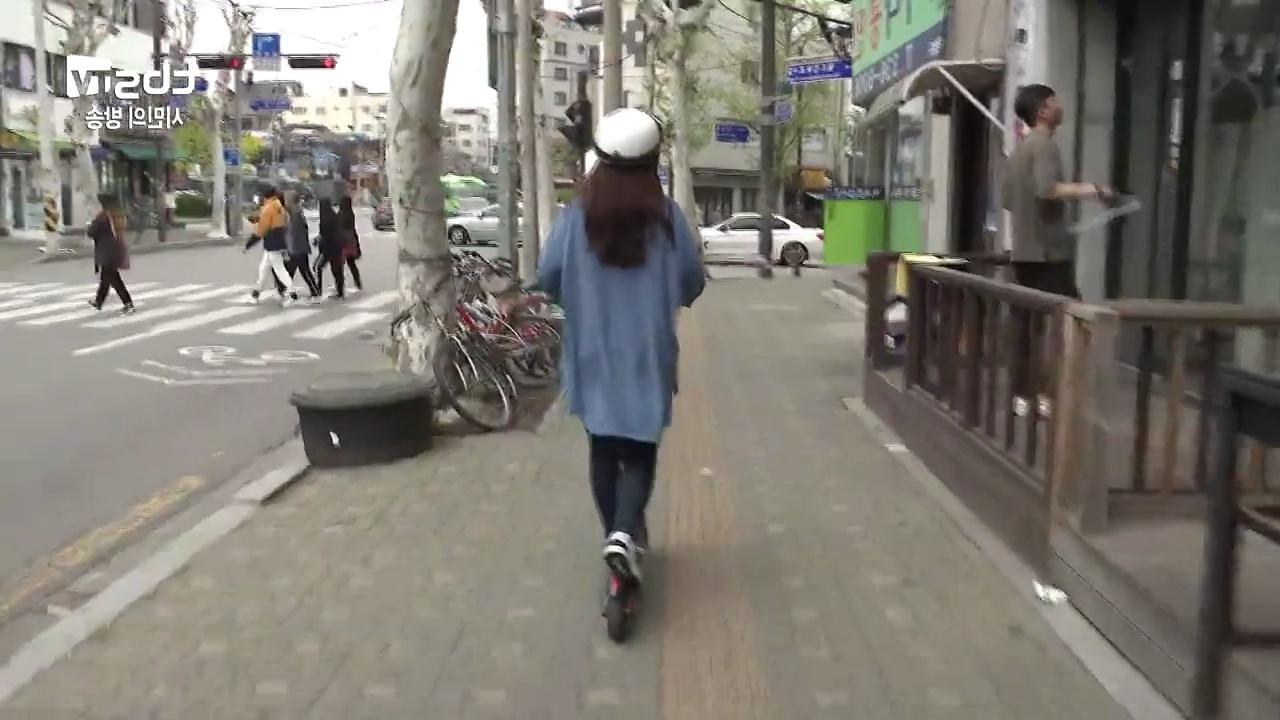helmet: (532, 107, 711, 642)
